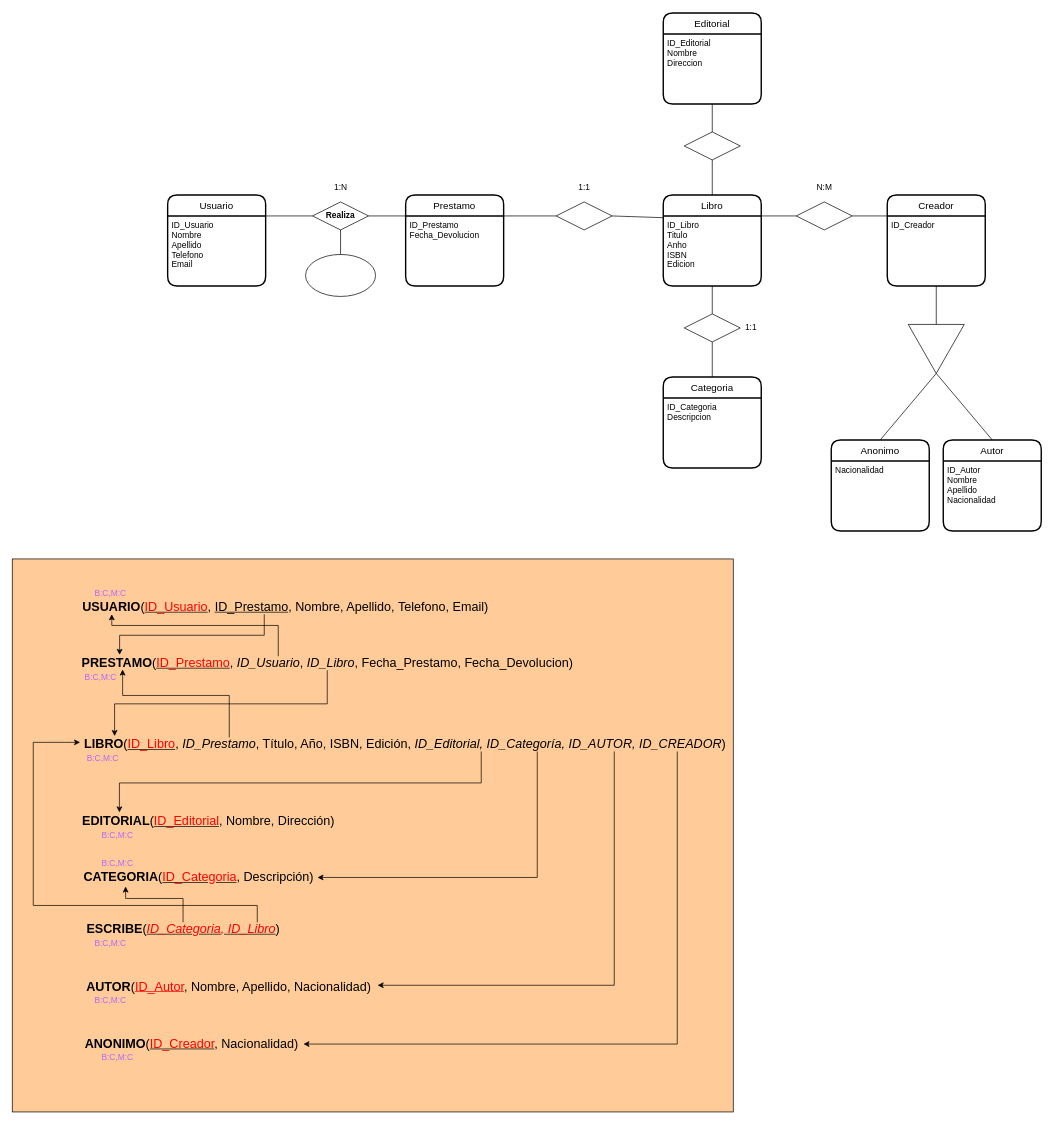
Image size: 1054x1124. Some labels were removed from this diagram. Here are the shapes that lost their labels. From the top down, the centre of each, then its label:
At [712,145]: "Publica".
At [583,215]: "Sobre".
At [824,215]: "Escribe".
At [340,275]: "Fecha_Prestamo".
At [712,327]: "Pertenece".
